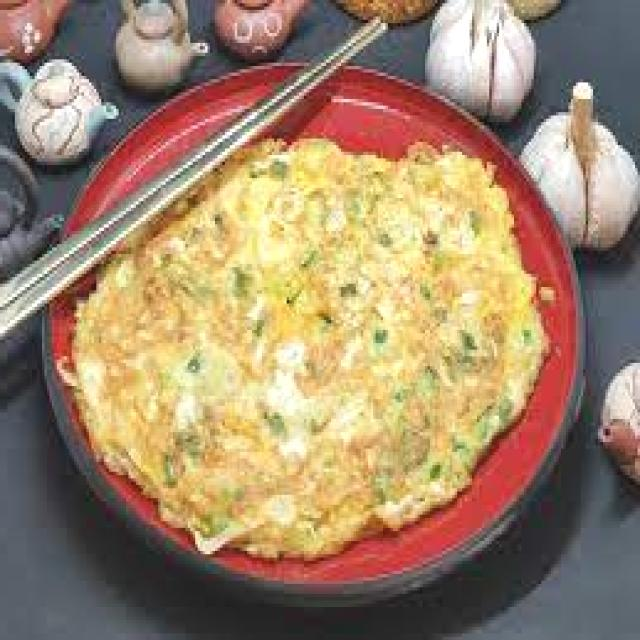telur dadar: (72, 142, 544, 561)
